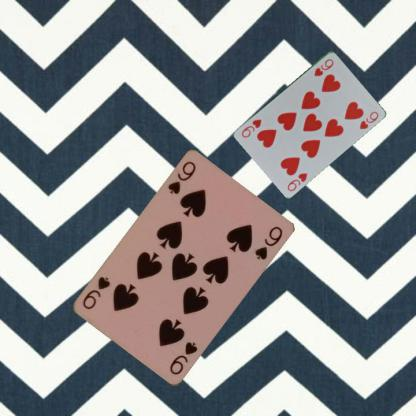9h: (285, 170, 308, 192), (312, 56, 335, 77)
9s: (167, 339, 200, 377), (165, 159, 197, 196)
